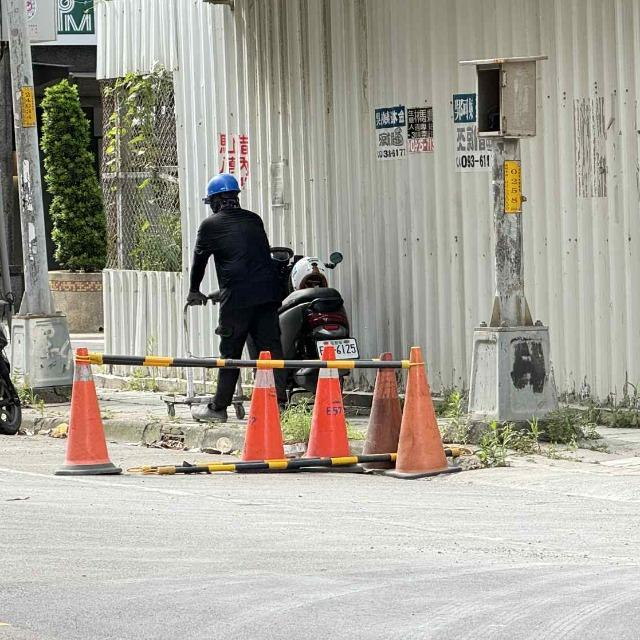Helmet: (197, 171, 245, 216)
NoVest: (201, 216, 281, 311)
